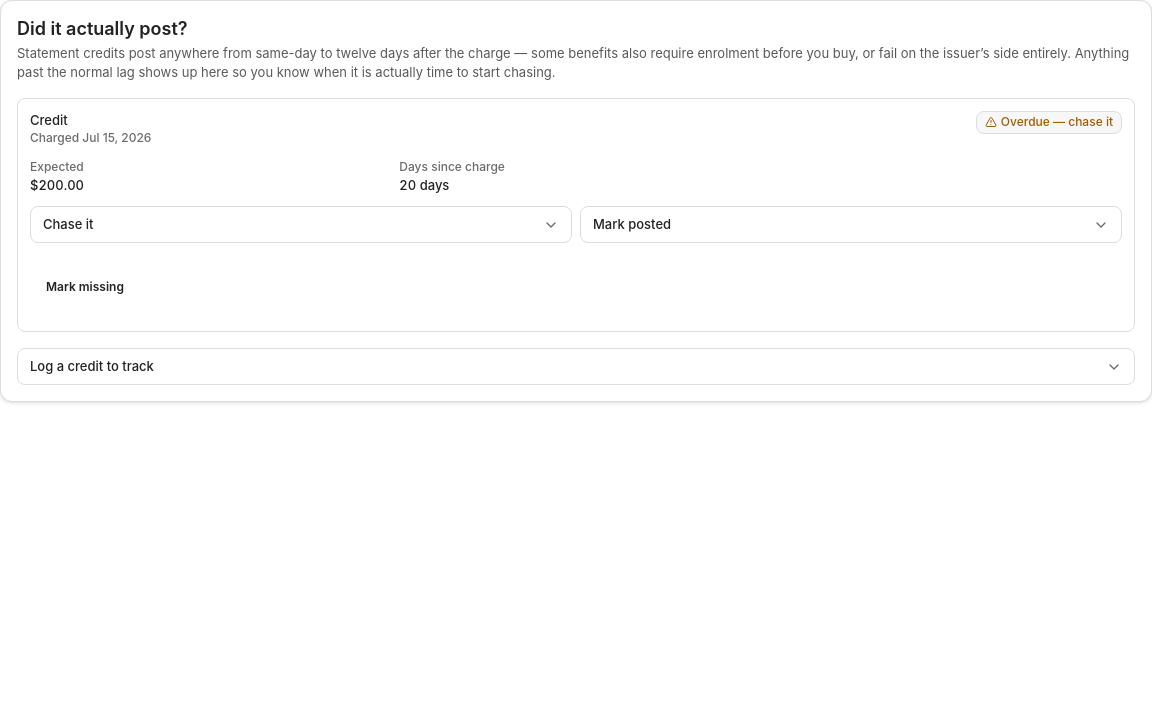
Test case: CreditPostingTracker — mark posted / mark missing › marks a credit missing and refreshes
Click the button "Mark missing" at (85,287), box [30, 255, 140, 319]
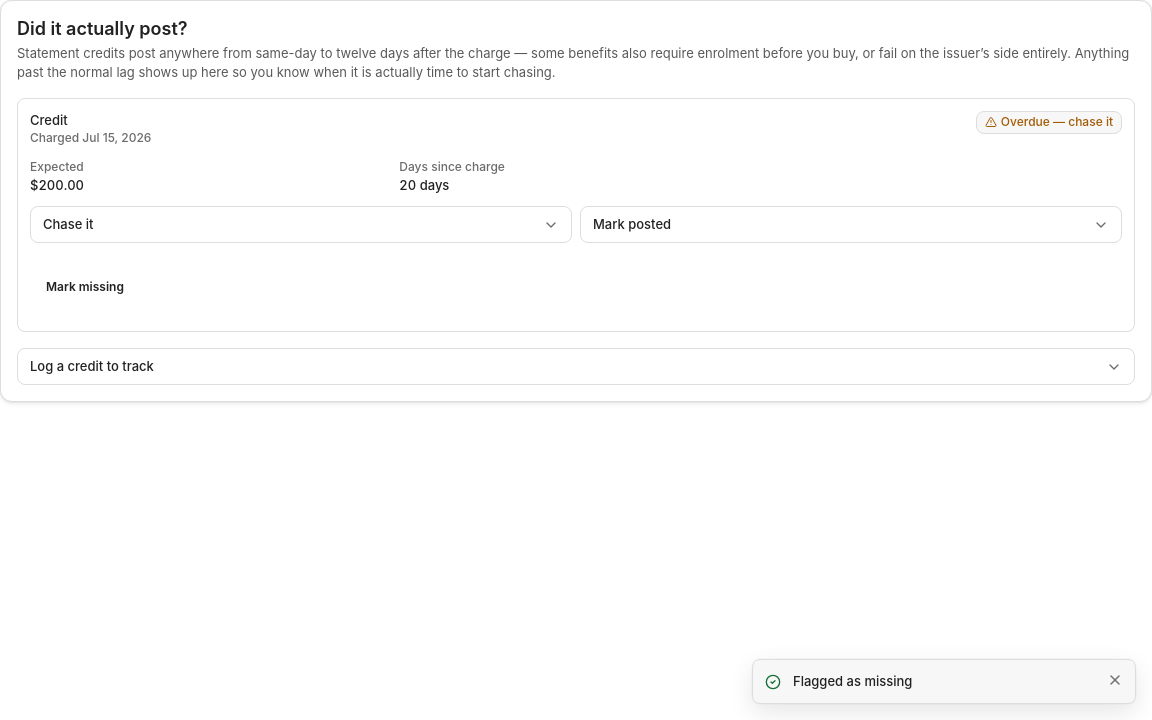
Expected: the text "Flagged as missing" is shown, [793, 673, 912, 689]
